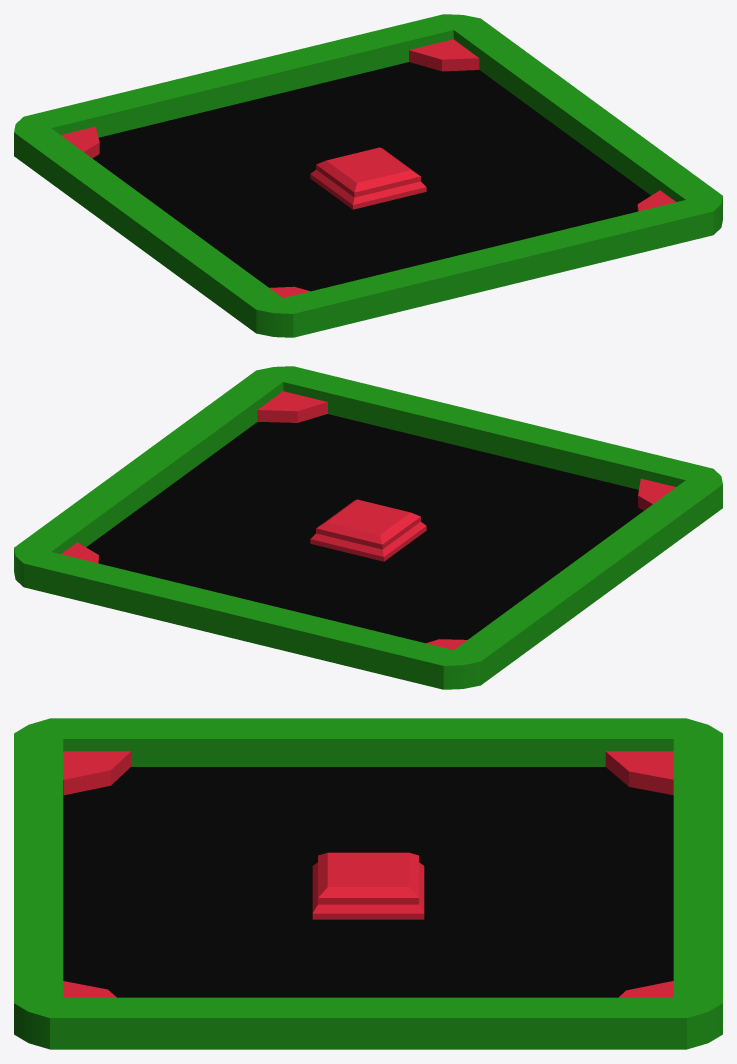
File: F_mapa.fbx
3 renders of one model, top to bottom at view 1: azimuth 30°, elevation 25°; view 2: azimuth 150°, elevation 25°; view 3: azimuth 270°, elevation 25°, orthographic. The views are drawn at different scales.
Parts seen in each view (by area): view 1: F_mapa; view 2: F_mapa; view 3: F_mapa.
Boxes of the visible parts, box(x1,y1,x2,y2) form: F_mapa: box(14, 14, 722, 337); F_mapa: box(14, 366, 722, 689); F_mapa: box(14, 718, 722, 1049).
Bounding box in the file's own units: 2087 × 102 × 2087.
